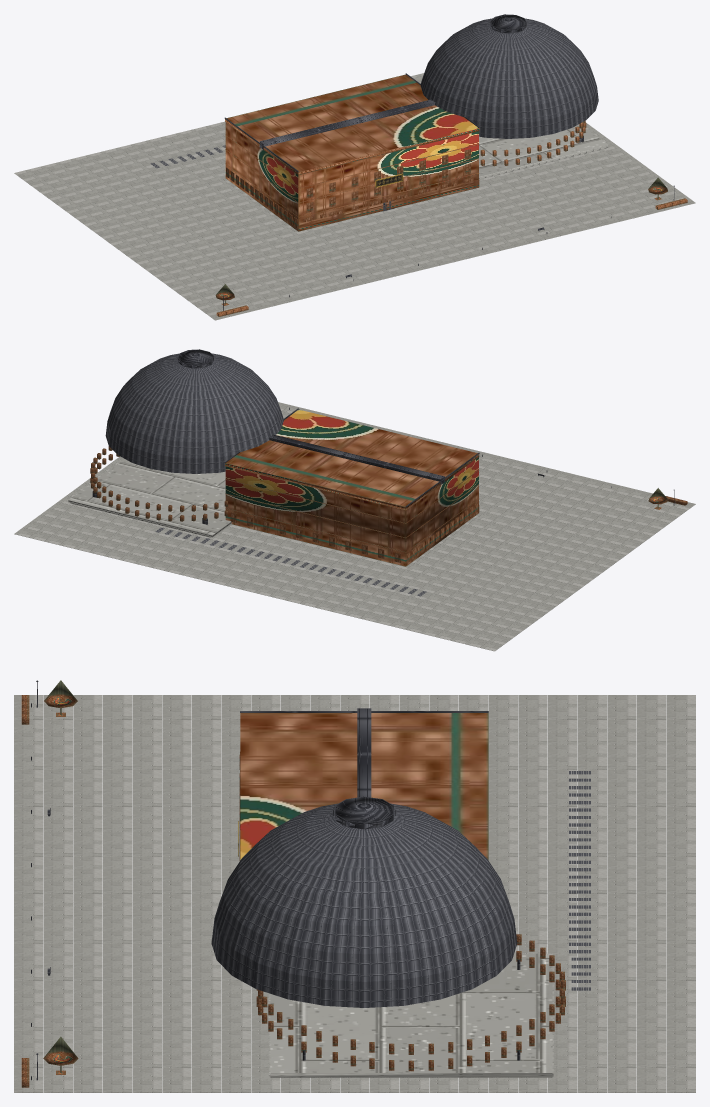
3 renders of one model, top to bottom at view 1: azimuth 30°, elevation 25°; view 2: azimuth 150°, elevation 25°; view 3: azimuth 270°, elevation 25°, orthographic. The views are drawn at different scales.
Parts seen in each view (by area): view 1: 11710_01_05540_015_01__plinth_ground_base, 11710_01_05540_015_02__mass_body_facade, 11710_01_05540_015_03__roof_deck_structure, 11710_01_05540_015_05__window_sash_glass, 11710_01_05540_015_03__roof_metal_ornament, 11710_01_05540_015_06__landscape_greenery; view 2: 11710_01_05540_015_01__plinth_ground_base, 11710_01_05540_015_02__mass_body_facade, 11710_01_05540_015_03__roof_deck_structure, 11710_01_05540_015_03__roof_metal_ornament, 11710_01_05540_015_05__window_sash_glass; view 3: 11710_01_05540_015_01__plinth_ground_base, 11710_01_05540_015_03__roof_deck_structure, 11710_01_05540_015_02__mass_body_facade, 11710_01_05540_015_05__window_sash_glass, 11710_01_05540_015_03__roof_metal_ornament, 11710_01_05540_015_06__landscape_greenery.
Part boxes in pixels (x1,y1,x2,y2): 11710_01_05540_015_01__plinth_ground_base: [14, 73, 695, 320]; 11710_01_05540_015_02__mass_body_facade: [225, 74, 479, 231]; 11710_01_05540_015_03__roof_deck_structure: [150, 18, 598, 168]; 11710_01_05540_015_05__window_sash_glass: [306, 120, 586, 223]; 11710_01_05540_015_03__roof_metal_ornament: [224, 14, 526, 172]; 11710_01_05540_015_06__landscape_greenery: [215, 177, 687, 316]; 11710_01_05540_015_01__plinth_ground_base: [14, 402, 695, 651]; 11710_01_05540_015_02__mass_body_facade: [225, 409, 479, 566]; 11710_01_05540_015_03__roof_deck_structure: [105, 353, 426, 596]; 11710_01_05540_015_03__roof_metal_ornament: [177, 349, 479, 507]; 11710_01_05540_015_05__window_sash_glass: [90, 446, 227, 521]; 11710_01_05540_015_01__plinth_ground_base: [14, 695, 695, 1092]; 11710_01_05540_015_03__roof_deck_structure: [211, 771, 590, 1007]; 11710_01_05540_015_02__mass_body_facade: [240, 713, 488, 859]; 11710_01_05540_015_05__window_sash_glass: [239, 752, 565, 1071]; 11710_01_05540_015_03__roof_metal_ornament: [240, 708, 488, 860]; 11710_01_05540_015_06__landscape_greenery: [21, 680, 78, 1087].
Size of the model in its own units: 160 by 40.97 by 116.
Materials: 7 (7 with a texture image).
